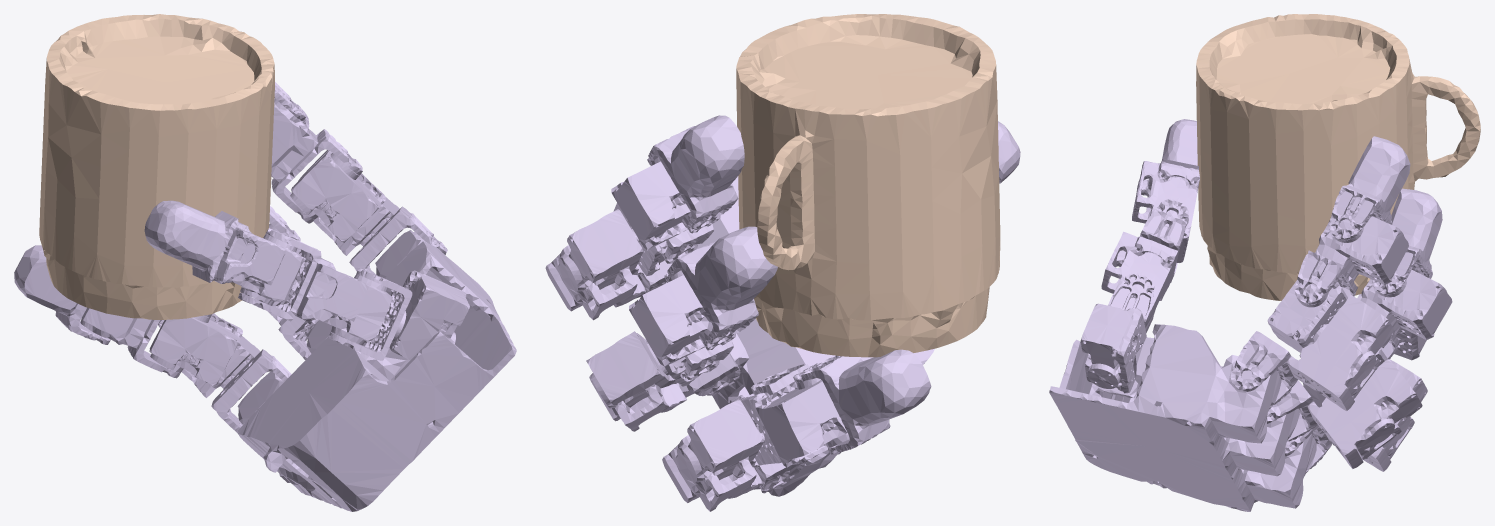
Rendered from ec3c7d8d71bff1-closed.glb.
3 renders of one model, left to right at view 1: azimuth 30°, elevation 25°; view 2: azimuth 150°, elevation 25°; view 3: azimuth 270°, elevation 25°, orthographic. The views are drawn at different scales.
Visible parts, largest first — view 1: LEAP_hand, world; view 2: world, LEAP_hand; view 3: LEAP_hand, world.
Part boxes in pixels (<box>): LEAP_hand: <box>14,82,516,511</box>; world: <box>39,14,274,319</box>; world: <box>736,14,1000,357</box>; LEAP_hand: <box>545,115,1020,511</box>; LEAP_hand: <box>1049,119,1452,511</box>; world: <box>1196,14,1480,300</box>.
Bounding box in the file's own units: 0.1966 × 0.216 × 0.2086.
